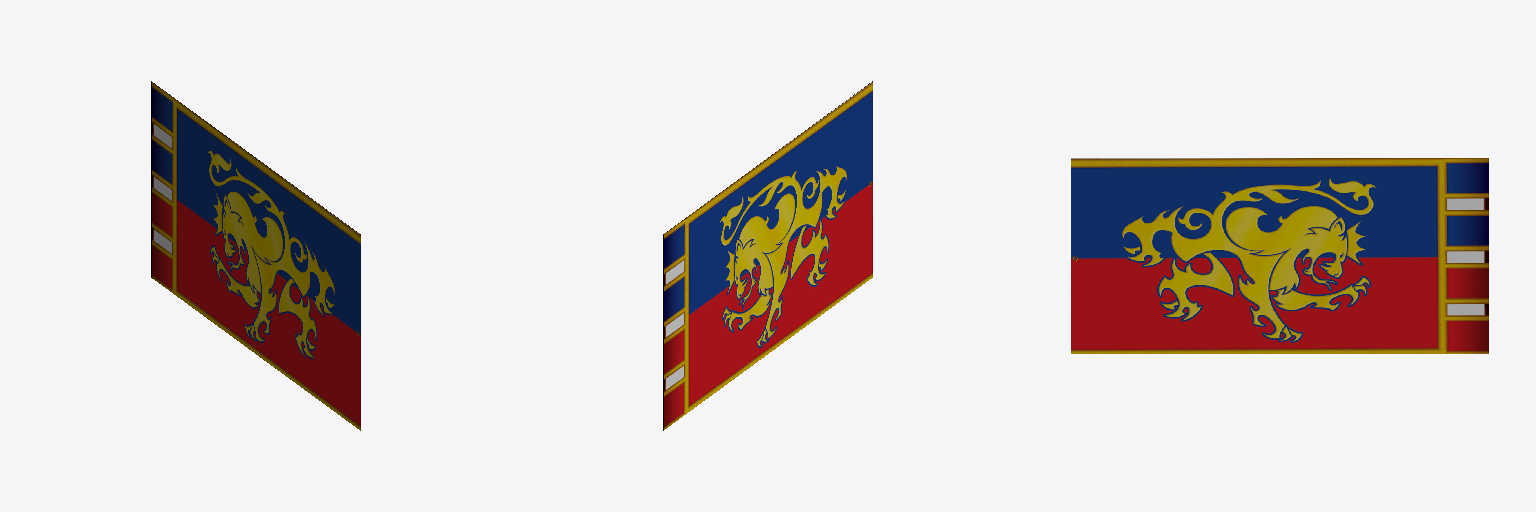
The picture shows the model from 3 angles: view 1: azimuth 30°, elevation 25°; view 2: azimuth 150°, elevation 25°; view 3: azimuth 270°, elevation 25°; orthographic projection.
Visible parts, largest first — view 1: Plane; view 2: Plane; view 3: Plane.
Part boxes in pixels (bbox=[...]): Plane: bbox=[151, 81, 360, 430]; Plane: bbox=[663, 81, 872, 430]; Plane: bbox=[1071, 158, 1488, 353].
Size of the model in its own units: 0 by 0.6207 by 1.2.
1 materials, 1 textured.